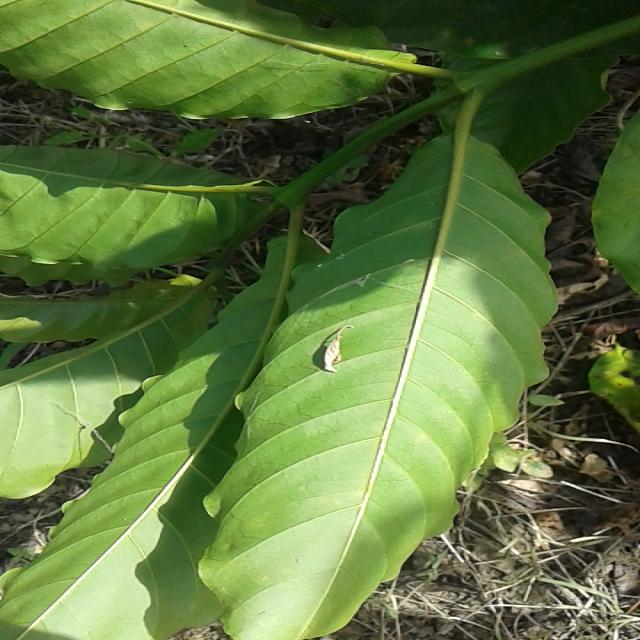Enfermedad-Roya: (200, 90, 558, 638)
